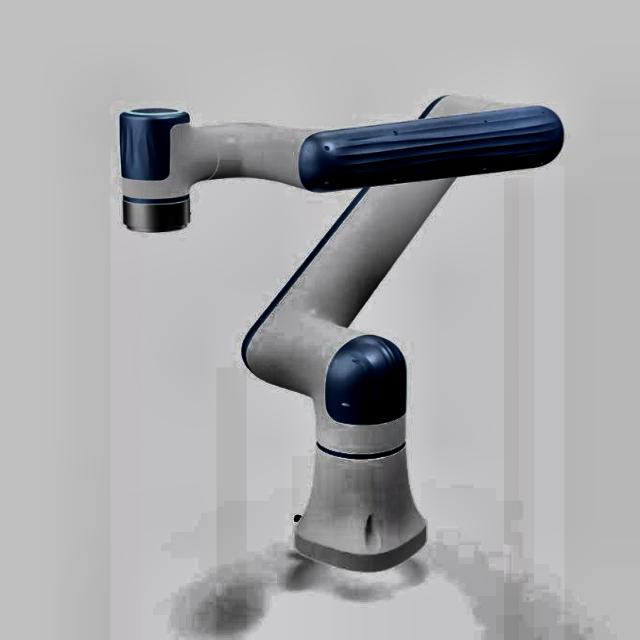robot: (119, 92, 566, 572)
